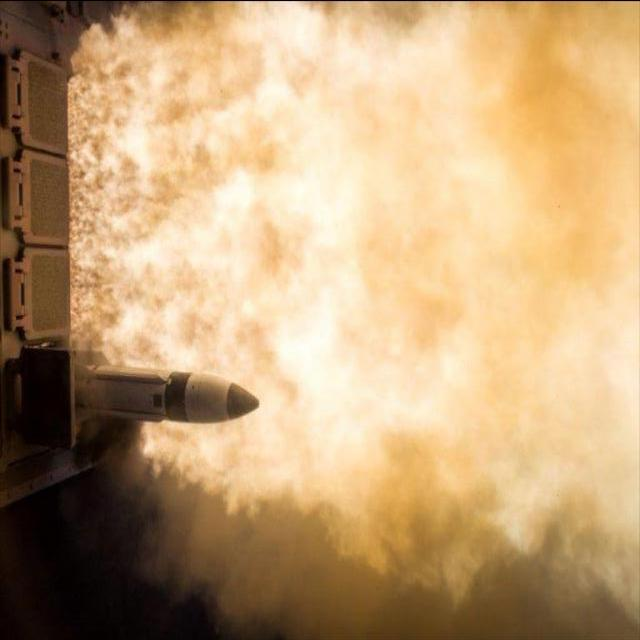Missile: (69, 343, 263, 435)
